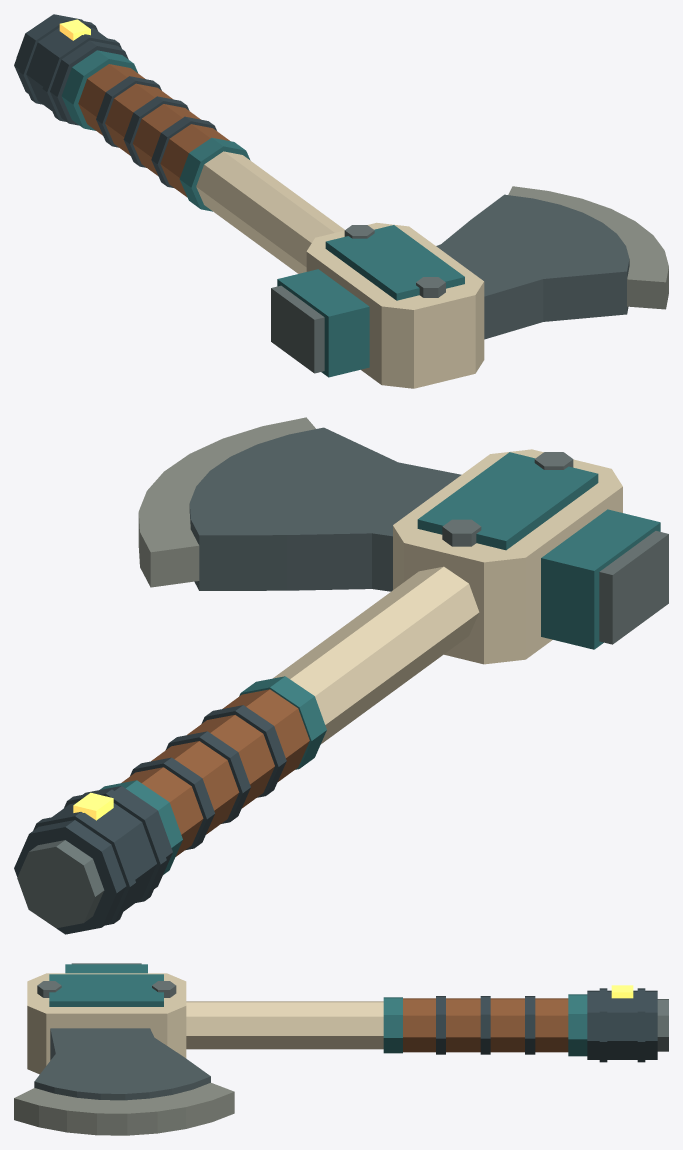
Rendered from axe.glb.
3 renders of one model, top to bottom at view 1: azimuth 30°, elevation 25°; view 2: azimuth 150°, elevation 25°; view 3: azimuth 270°, elevation 25°, orthographic. The views are drawn at different scales.
Parts seen in each view (by area): view 1: Tool axe Tool shell cream, Tool axe Tool head steel, Tool axe Tool workshop teal, Tool axe Tool socket iron, Tool axe Tool grip wrap, Tool axe Tool honed edge, Tool axe Tool bright steel; view 2: Tool axe Tool shell cream, Tool axe Tool head steel, Tool axe Tool workshop teal, Tool axe Tool socket iron, Tool axe Tool bright steel, Tool axe Tool grip wrap, Tool axe Tool honed edge; view 3: Tool axe Tool shell cream, Tool axe Tool head steel, Tool axe Tool honed edge, Tool axe Tool grip wrap, Tool axe Tool workshop teal, Tool axe Tool socket iron, Tool axe Tool bright steel, Tool axe Tool status light.
Part boxes in pixels (box(x1,y1,x2,y2)): Tool axe Tool shell cream: box(196, 151, 484, 388); Tool axe Tool head steel: box(436, 194, 629, 339); Tool axe Tool workshop teal: box(61, 50, 464, 377); Tool axe Tool socket iron: box(14, 14, 216, 188); Tool axe Tool grip wrap: box(78, 64, 230, 197); Tool axe Tool honed edge: box(508, 186, 668, 309); Tool axe Tool bright steel: box(16, 33, 445, 373); Tool axe Tool shell cream: box(273, 449, 622, 744); Tool axe Tool head steel: box(189, 427, 461, 591); Tool axe Tool workshop teal: box(100, 452, 660, 874); Tool axe Tool socket iron: box(14, 705, 286, 934); Tool axe Tool bright steel: box(17, 452, 668, 928); Tool axe Tool grip wrap: box(121, 689, 309, 856); Tool axe Tool honed edge: box(138, 417, 315, 587); Tool axe Tool shell cream: box(27, 973, 383, 1074); Tool axe Tool head steel: box(34, 1028, 210, 1100); Tool axe Tool honed edge: box(14, 1083, 234, 1135); Tool axe Tool grip wrap: box(403, 998, 568, 1052); Tool axe Tool workshop teal: box(49, 964, 587, 1056); Tool axe Tool socket iron: box(436, 988, 657, 1062); Tool axe Tool bright steel: box(37, 963, 668, 1051); Tool axe Tool status light: box(611, 985, 633, 998).
Bounding box in the file's own units: 0.3029 × 0.0764 × 0.6.
